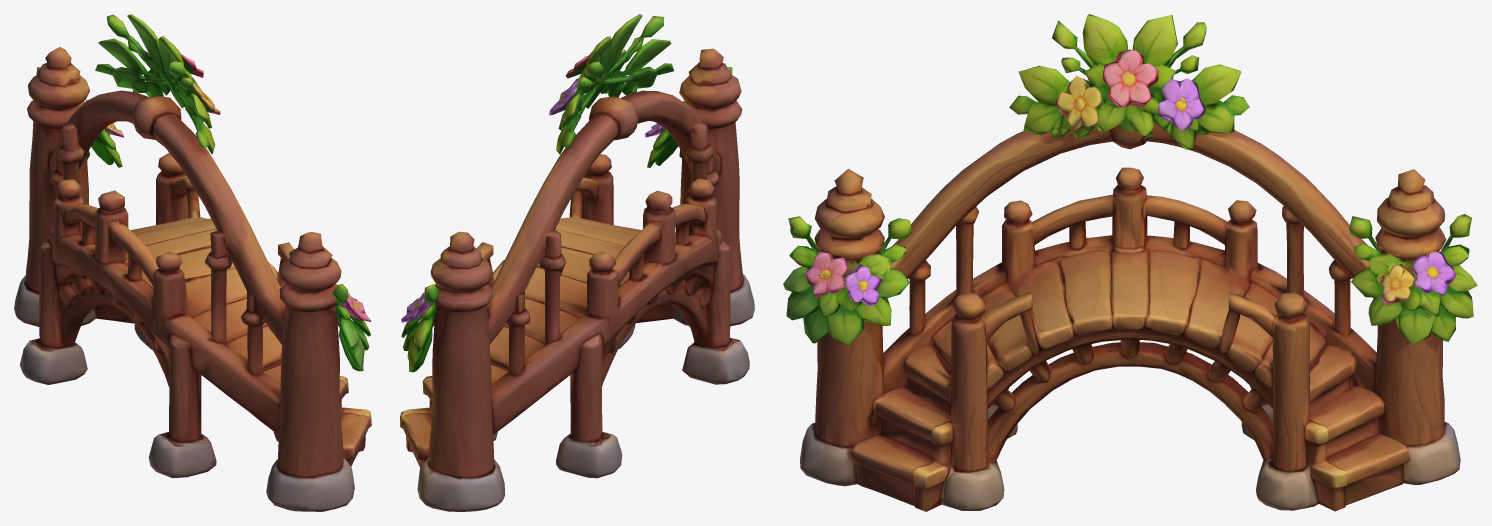
File: bridge.glb
The picture shows the model from 3 angles, left to right: view 1: azimuth 30°, elevation 25°; view 2: azimuth 150°, elevation 25°; view 3: azimuth 270°, elevation 25°; orthographic projection. The views are drawn at different scales.
Parts seen in each view (by area): view 1: tripo_node_8c1c7b74-352b-4d0b-af65-8cbd856bc2d8; view 2: tripo_node_8c1c7b74-352b-4d0b-af65-8cbd856bc2d8; view 3: tripo_node_8c1c7b74-352b-4d0b-af65-8cbd856bc2d8.
Boxes of the visible parts, box(x1,y1,x2,y2) form: tripo_node_8c1c7b74-352b-4d0b-af65-8cbd856bc2d8: box(14, 14, 371, 511); tripo_node_8c1c7b74-352b-4d0b-af65-8cbd856bc2d8: box(400, 14, 754, 511); tripo_node_8c1c7b74-352b-4d0b-af65-8cbd856bc2d8: box(783, 14, 1477, 511).
Bounding box in the file's own units: 0.6142 × 1.2 × 1.75.
Materials: 1 (1 with a texture image).
